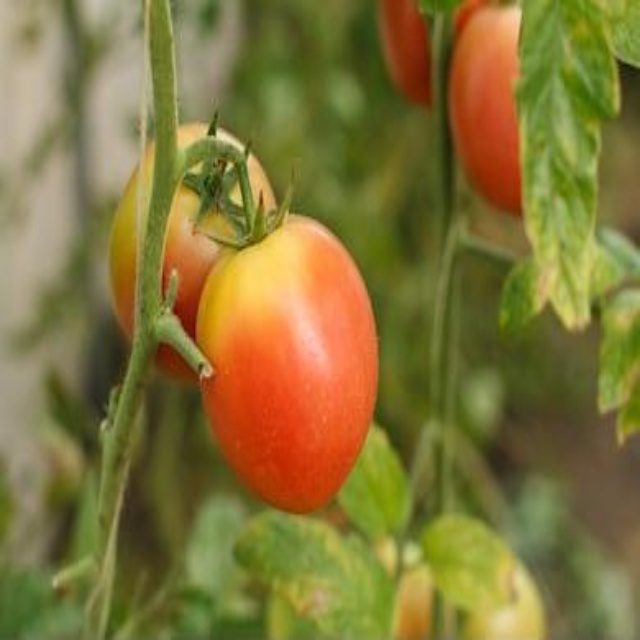tomato: (198, 215, 389, 511), (92, 118, 273, 379), (422, 14, 589, 219)
